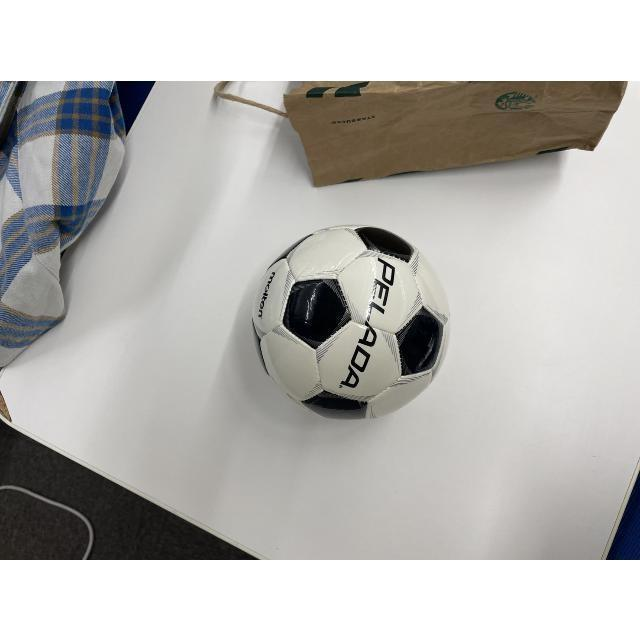Sports-Ball: (254, 225, 449, 418)
